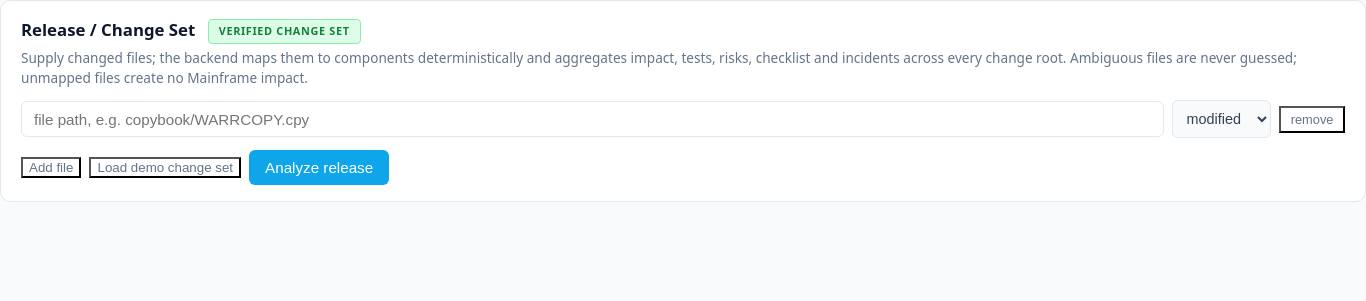
Test case: ChangeSetView › requires at least one file path
Click the button "Analyze release" at {"x": 319, "y": 167}, box [249,150,389,185]
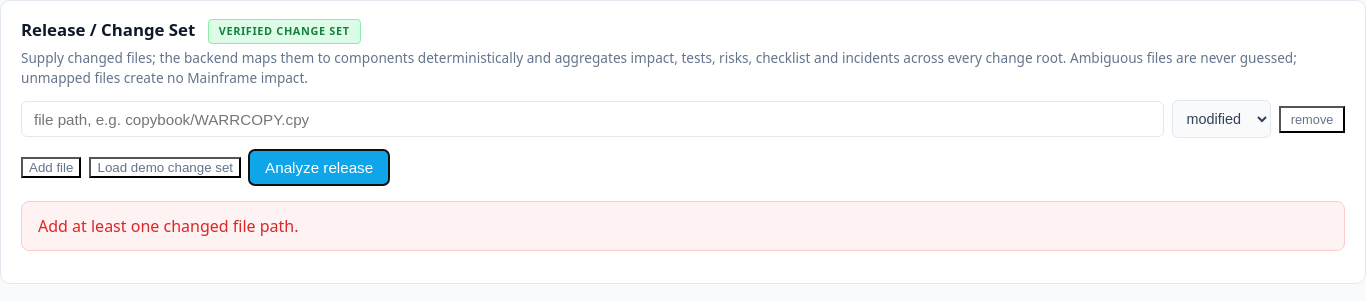
Expected: the text "Add at least one changed file path." is shown, [21,200,1345,250]
